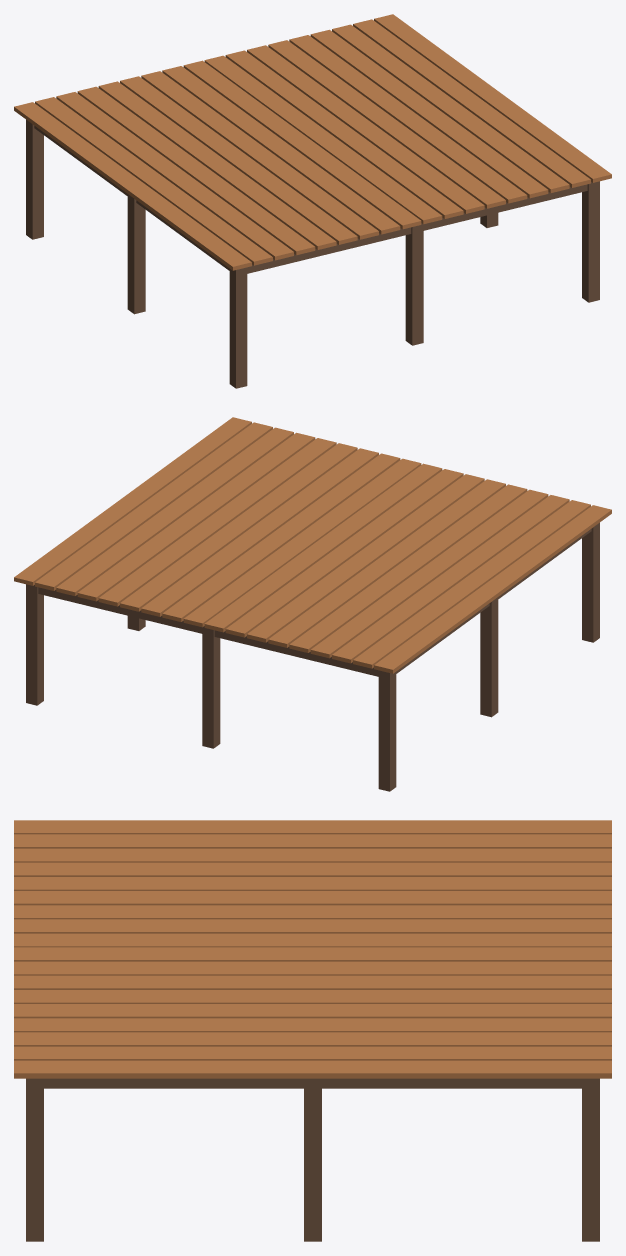
Rendered from SPW_Medieval_Props_Stand_02.glb.
3 renders of one model, top to bottom at view 1: azimuth 30°, elevation 25°; view 2: azimuth 150°, elevation 25°; view 3: azimuth 270°, elevation 25°, orthographic. The views are drawn at different scales.
Visible parts, largest first — view 1: SPW_Medieval_Props_Stand_02; view 2: SPW_Medieval_Props_Stand_02; view 3: SPW_Medieval_Props_Stand_02.
Boxes of the visible parts, x1,y1,x2,y2 form: SPW_Medieval_Props_Stand_02: (14,14,611,388); SPW_Medieval_Props_Stand_02: (14,417,611,791); SPW_Medieval_Props_Stand_02: (14,820,611,1241).
Size of the model in its own units: 5 by 1.6 by 5.
Materials: 1 (1 with a texture image).
